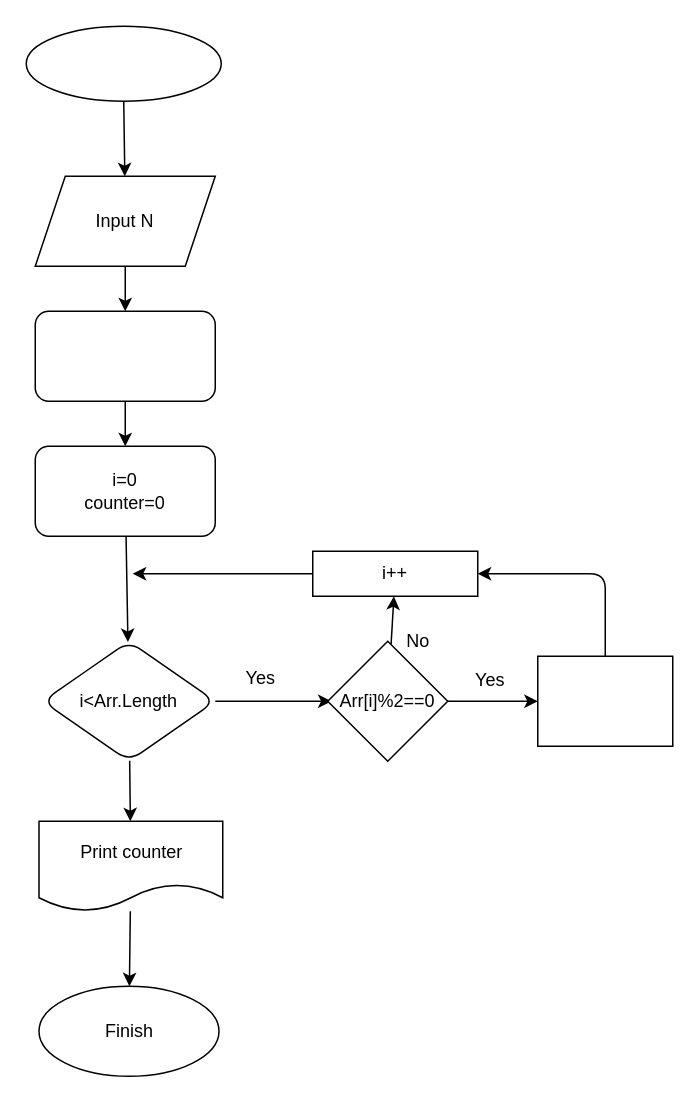
The diagram is 699 pixels wide and 1103 high, and some of its shapes have lost their labels. The centre of each missing label's shape, as x and y in pixels:
counter ++: the point at 604,700
Generate random Arr[N]: the point at 124,355
Start: the point at 123,63
